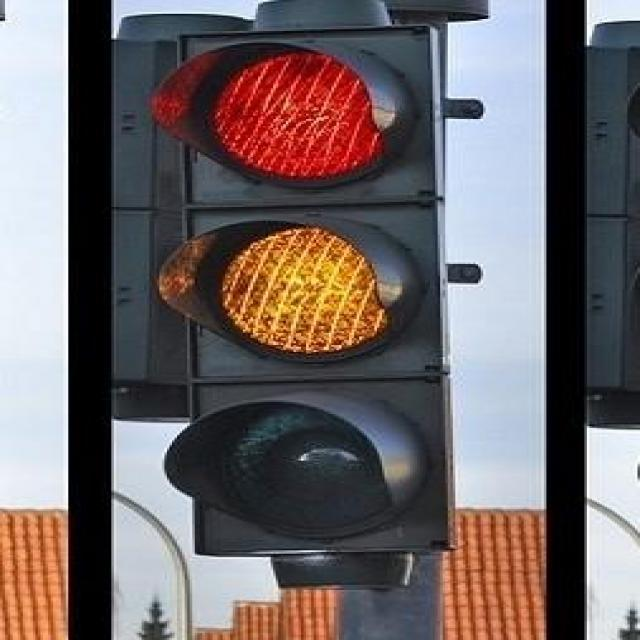yellow_light: (149, 33, 462, 556)
